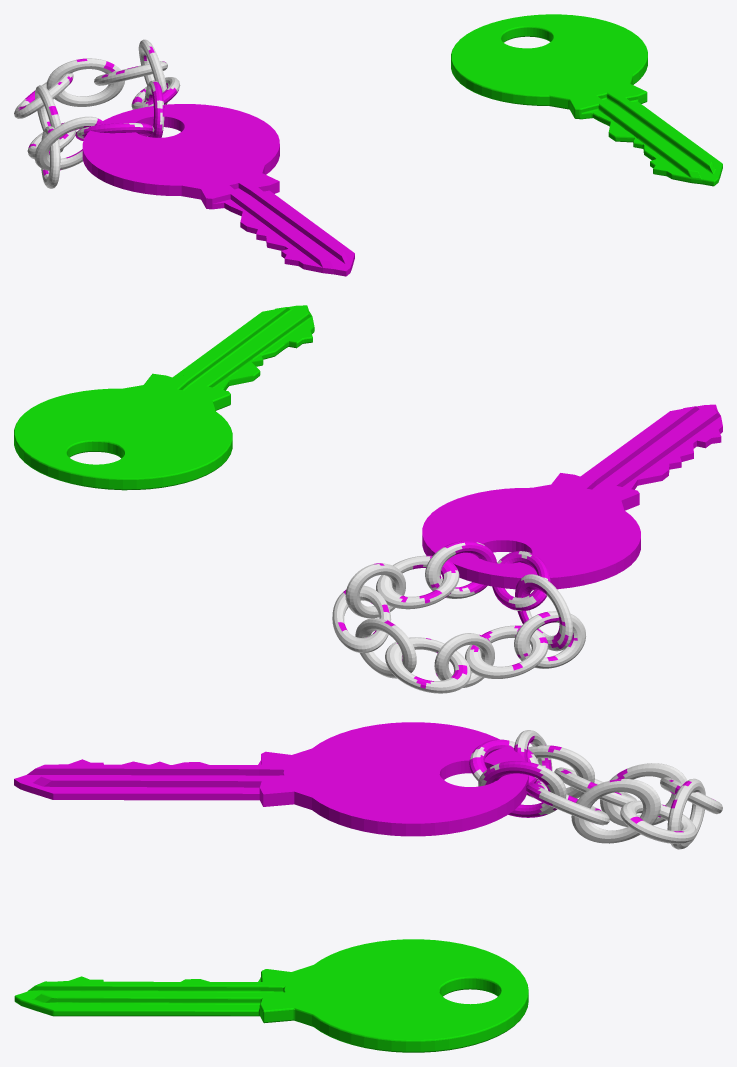
Rendered from Key.fbx.
The picture shows the model from 3 angles, top to bottom: view 1: azimuth 30°, elevation 25°; view 2: azimuth 150°, elevation 25°; view 3: azimuth 270°, elevation 25°; orthographic projection. The views are drawn at different scales.
Visible parts, largest first — view 1: KitchenKey, HouseKey; view 2: KitchenKey, HouseKey; view 3: KitchenKey, HouseKey.
Boxes of the visible parts, box(x1,y1,x2,y2) form: KitchenKey: box(14, 39, 354, 276); HouseKey: box(451, 14, 722, 186); KitchenKey: box(332, 404, 722, 693); HouseKey: box(14, 305, 314, 490); KitchenKey: box(14, 722, 722, 849); HouseKey: box(14, 939, 528, 1052).
Bounding box in the file's own units: 296 × 43.87 × 277.
